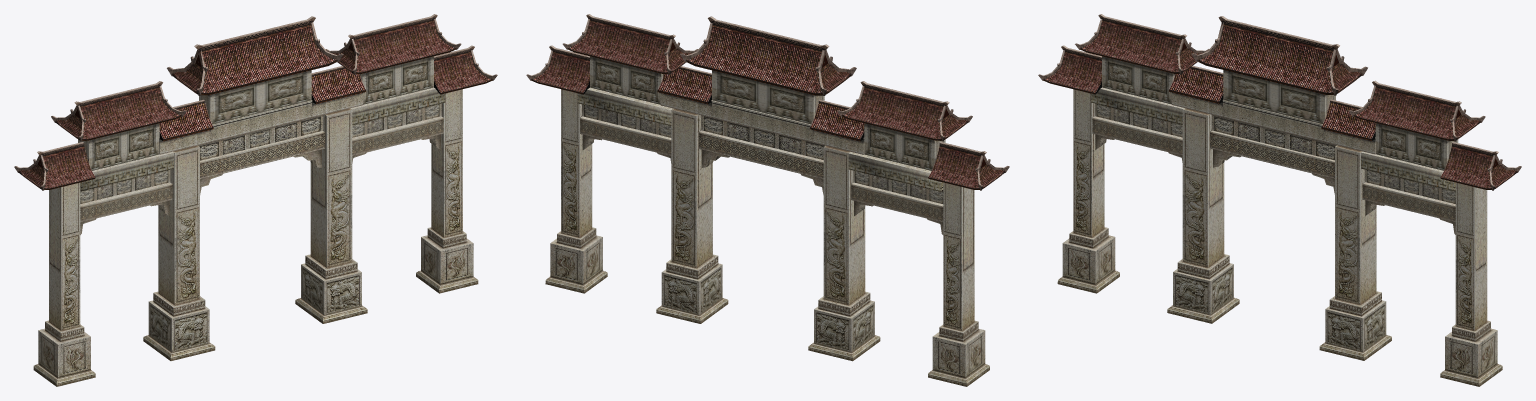
File: a1-034-stonedoor.fbx
The picture shows the model from 3 angles, left to right: view 1: azimuth 30°, elevation 25°; view 2: azimuth 150°, elevation 25°; view 3: azimuth 330°, elevation 25°; orthographic projection.
Parts seen in each view (by area): view 1: Object03; view 2: Object03; view 3: Object03.
Part boxes in pixels (x1=…): Object03: x1=14, y1=14, x2=497, y2=386; Object03: x1=526, y1=14, x2=1009, y2=386; Object03: x1=1038, y1=14, x2=1521, y2=386.
Bounding box in the file's own units: 29.7 × 18.41 × 3.51.
